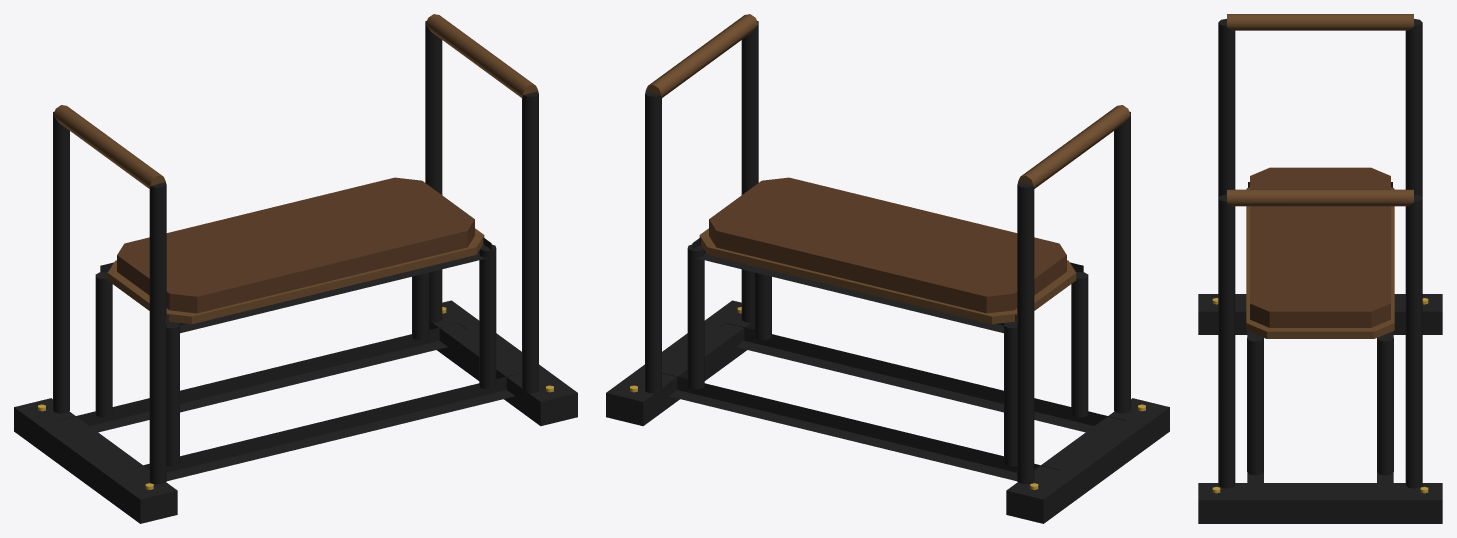
3 views of the same model, side by side, from view 1: azimuth 30°, elevation 25°; view 2: azimuth 150°, elevation 25°; view 3: azimuth 270°, elevation 25° (orthographic). The views are drawn at different scales.
Visible parts, largest first — view 1: parametric-variant-machine-1st-pub-d672a686730172a6797c; view 2: parametric-variant-machine-1st-pub-d672a686730172a6797c; view 3: parametric-variant-machine-1st-pub-d672a686730172a6797c.
Boxes of the visible parts, x1,y1,x2,y2 form: parametric-variant-machine-1st-pub-d672a686730172a6797c: [14, 14, 577, 523]; parametric-variant-machine-1st-pub-d672a686730172a6797c: [606, 14, 1169, 523]; parametric-variant-machine-1st-pub-d672a686730172a6797c: [1198, 14, 1442, 523].
Bounding box in the file's own units: 1.32 × 0.947 × 0.658.
